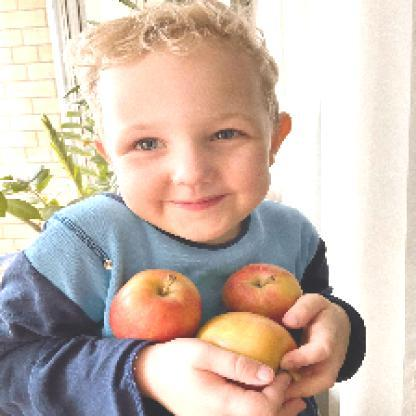child: (1, 1, 369, 415)
